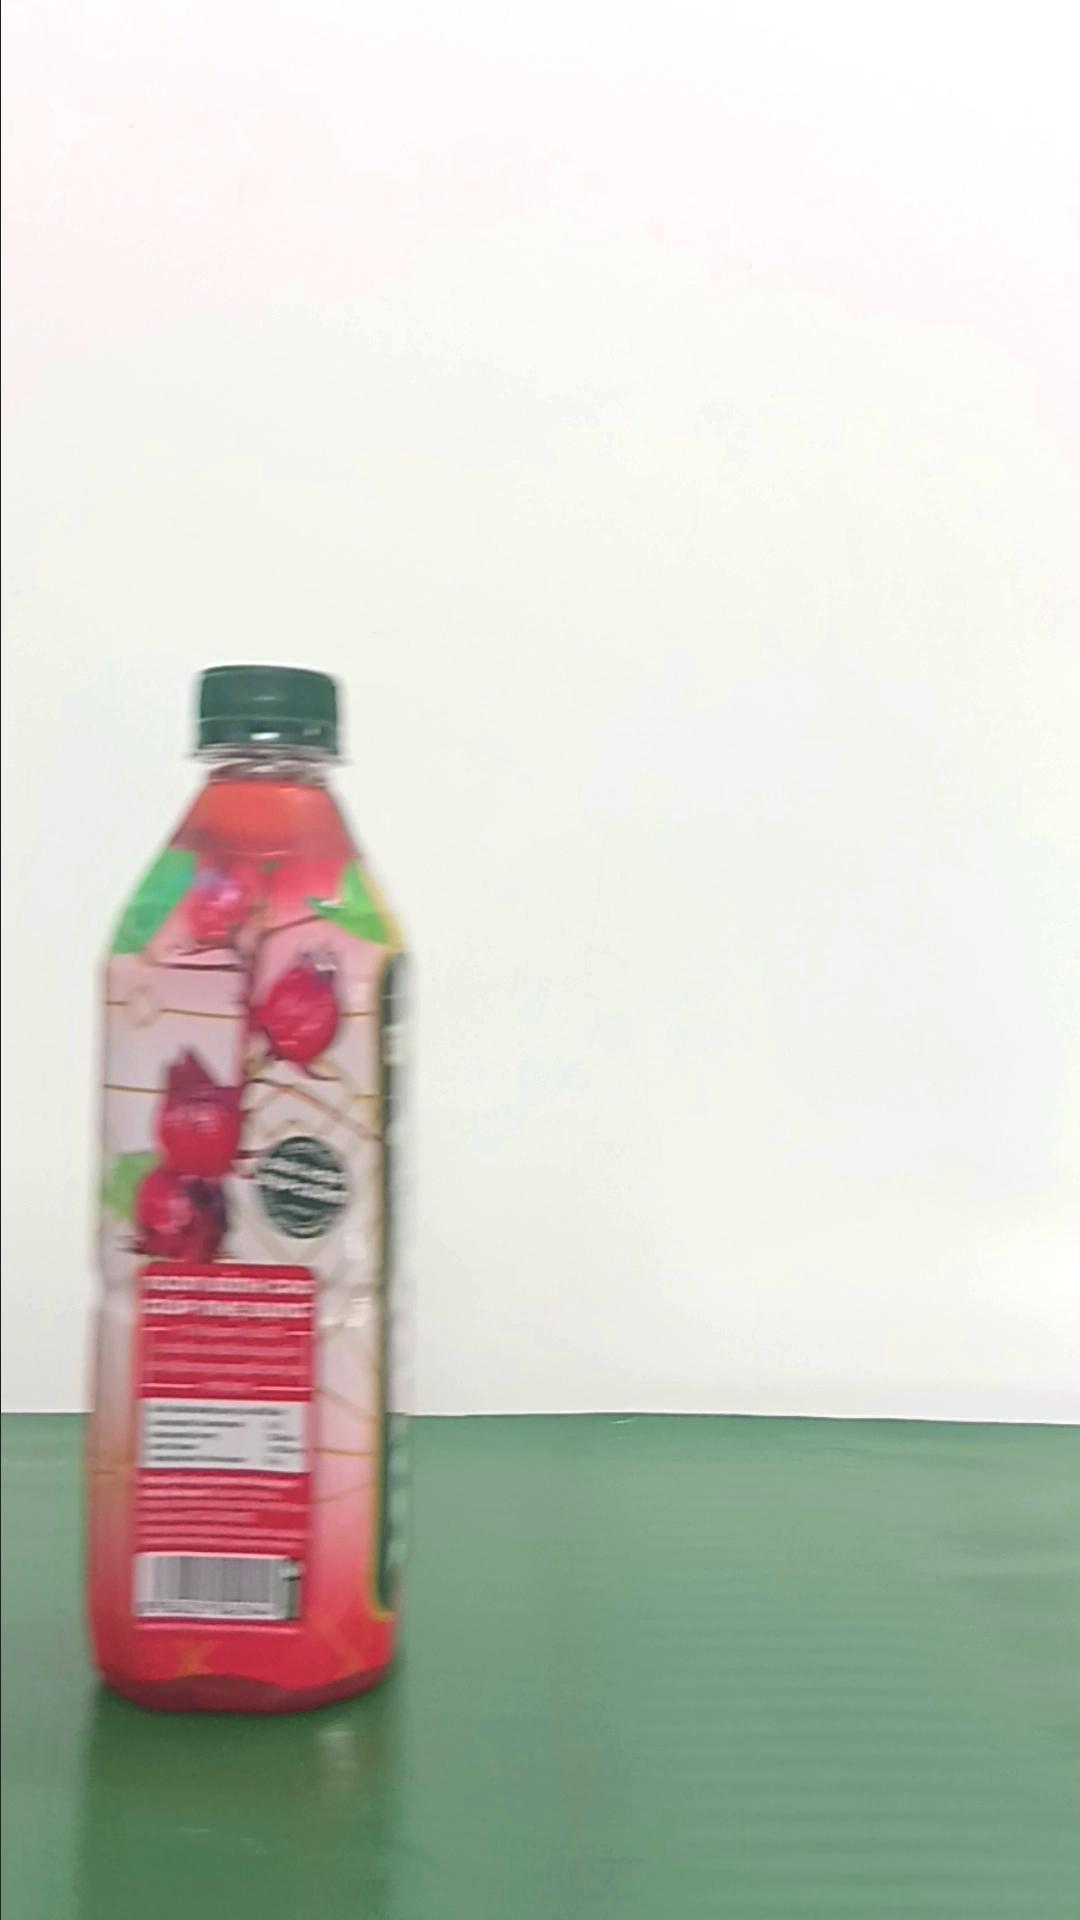khong loi: (80, 661, 411, 1716)
